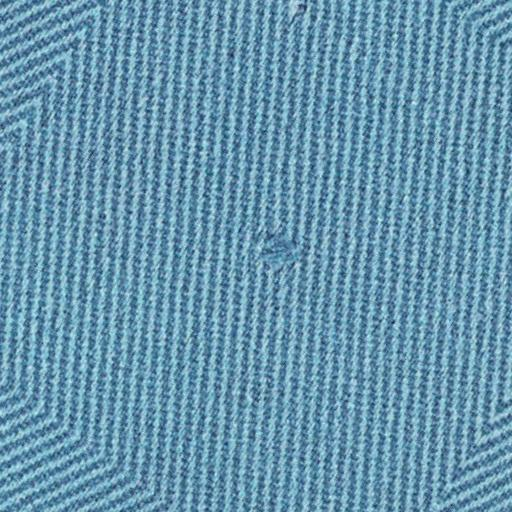knot: (252, 226, 319, 278)
